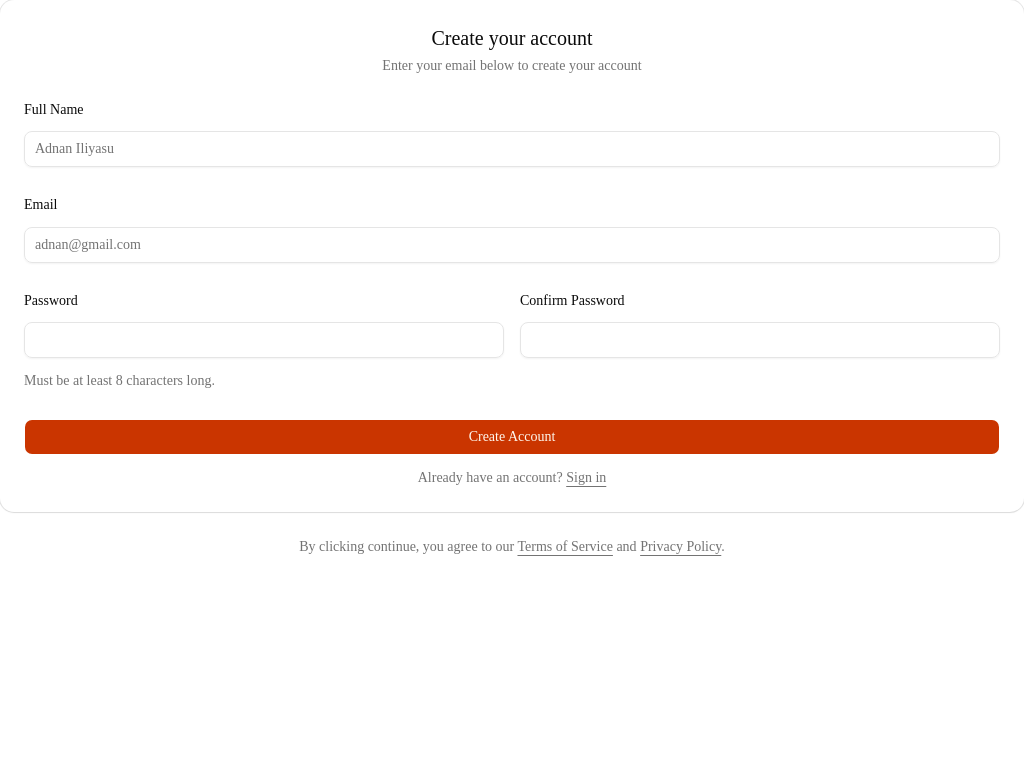
it: Authentication Components › SignUpForm › validates password match
Step 1. Type "password123" into the password field labelled "Password" → (264, 340), box [24, 322, 504, 358]
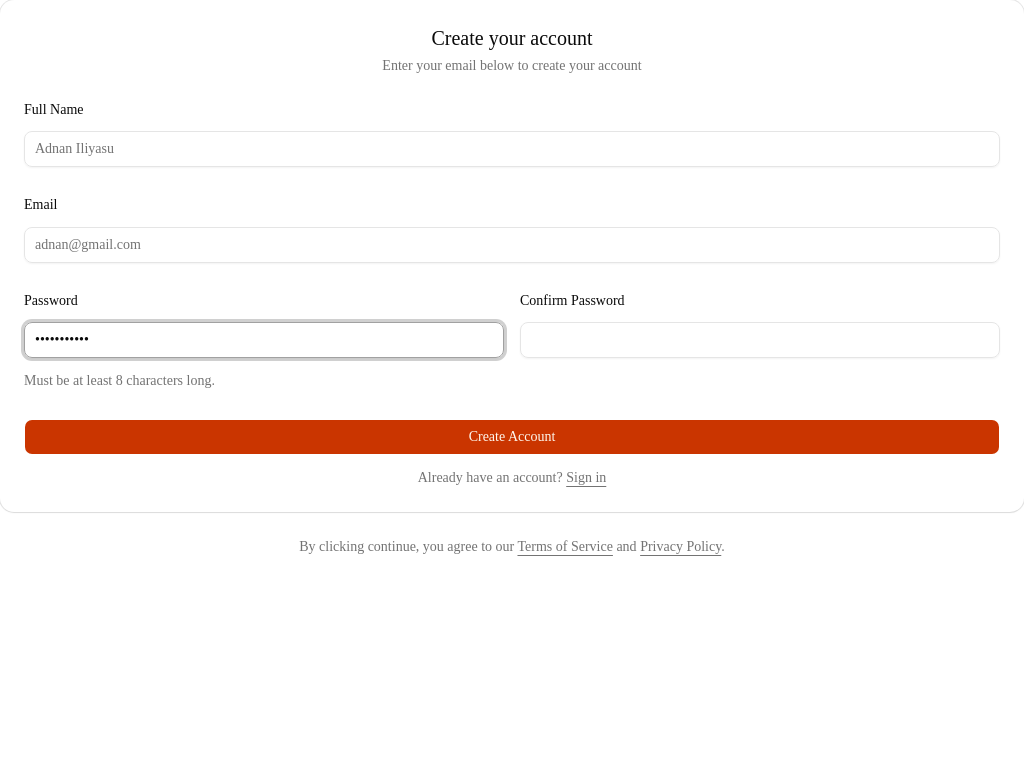
Step 2. Type "differentpassword" into the password field labelled "Confirm Password" → (760, 340), box [520, 322, 1000, 358]
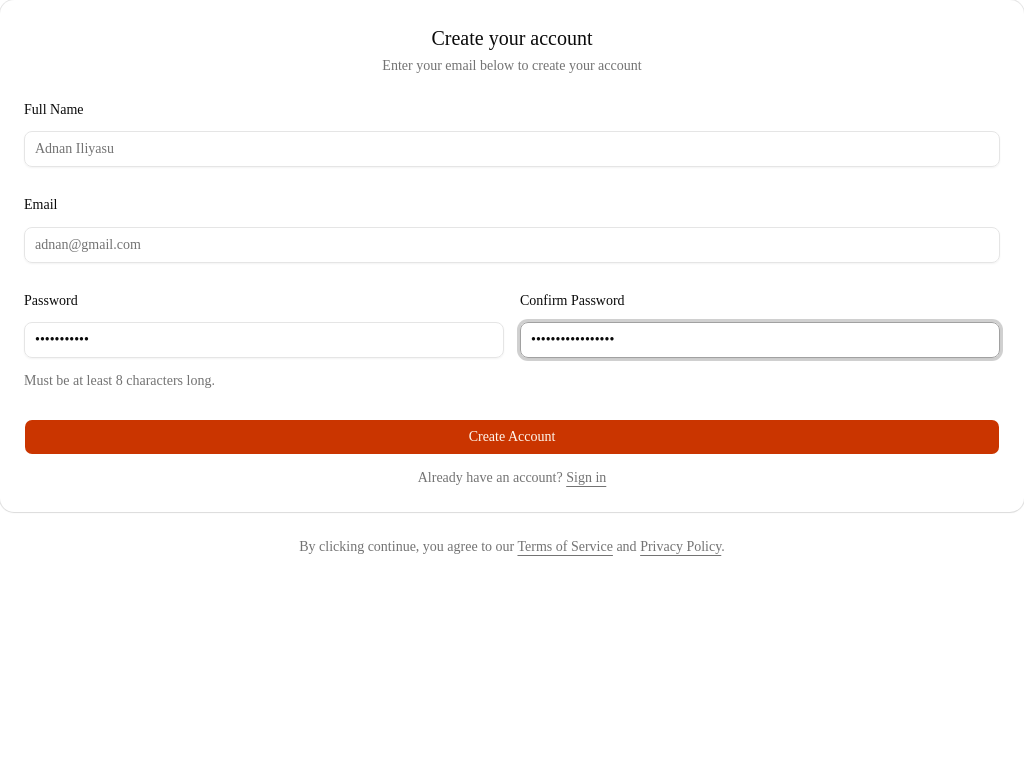
Step 3. Click the button "Create Account" → (512, 437), box [24, 419, 1000, 455]
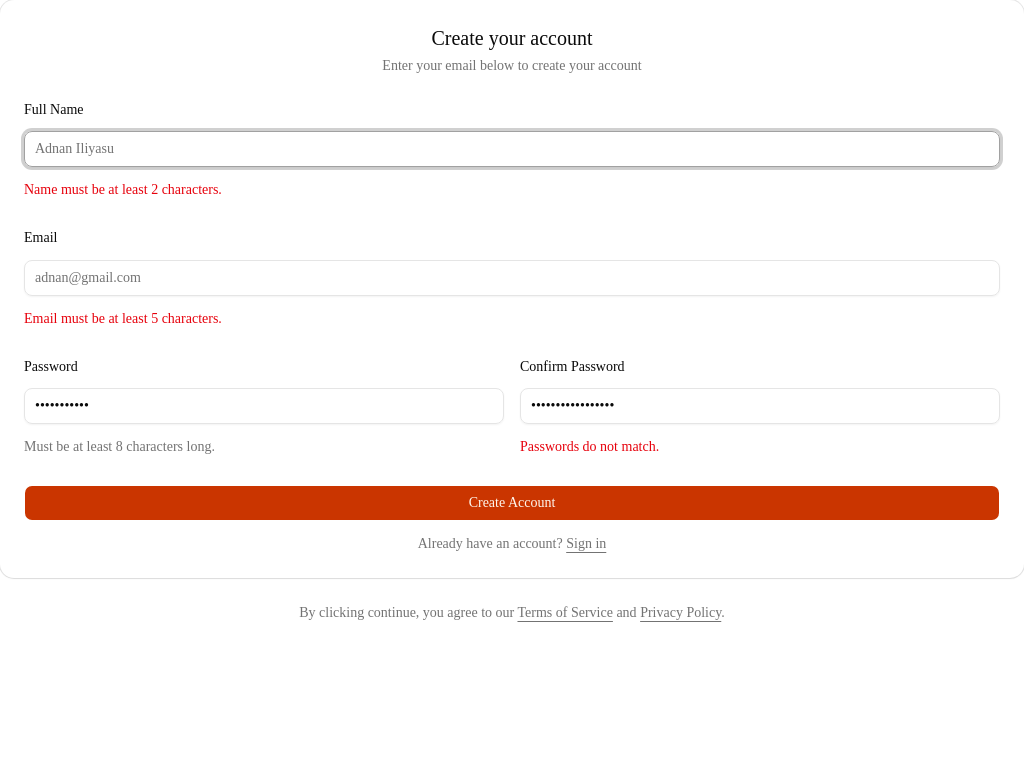
Check: the text "Passwords do not match." is shown, box [520, 439, 659, 454]
